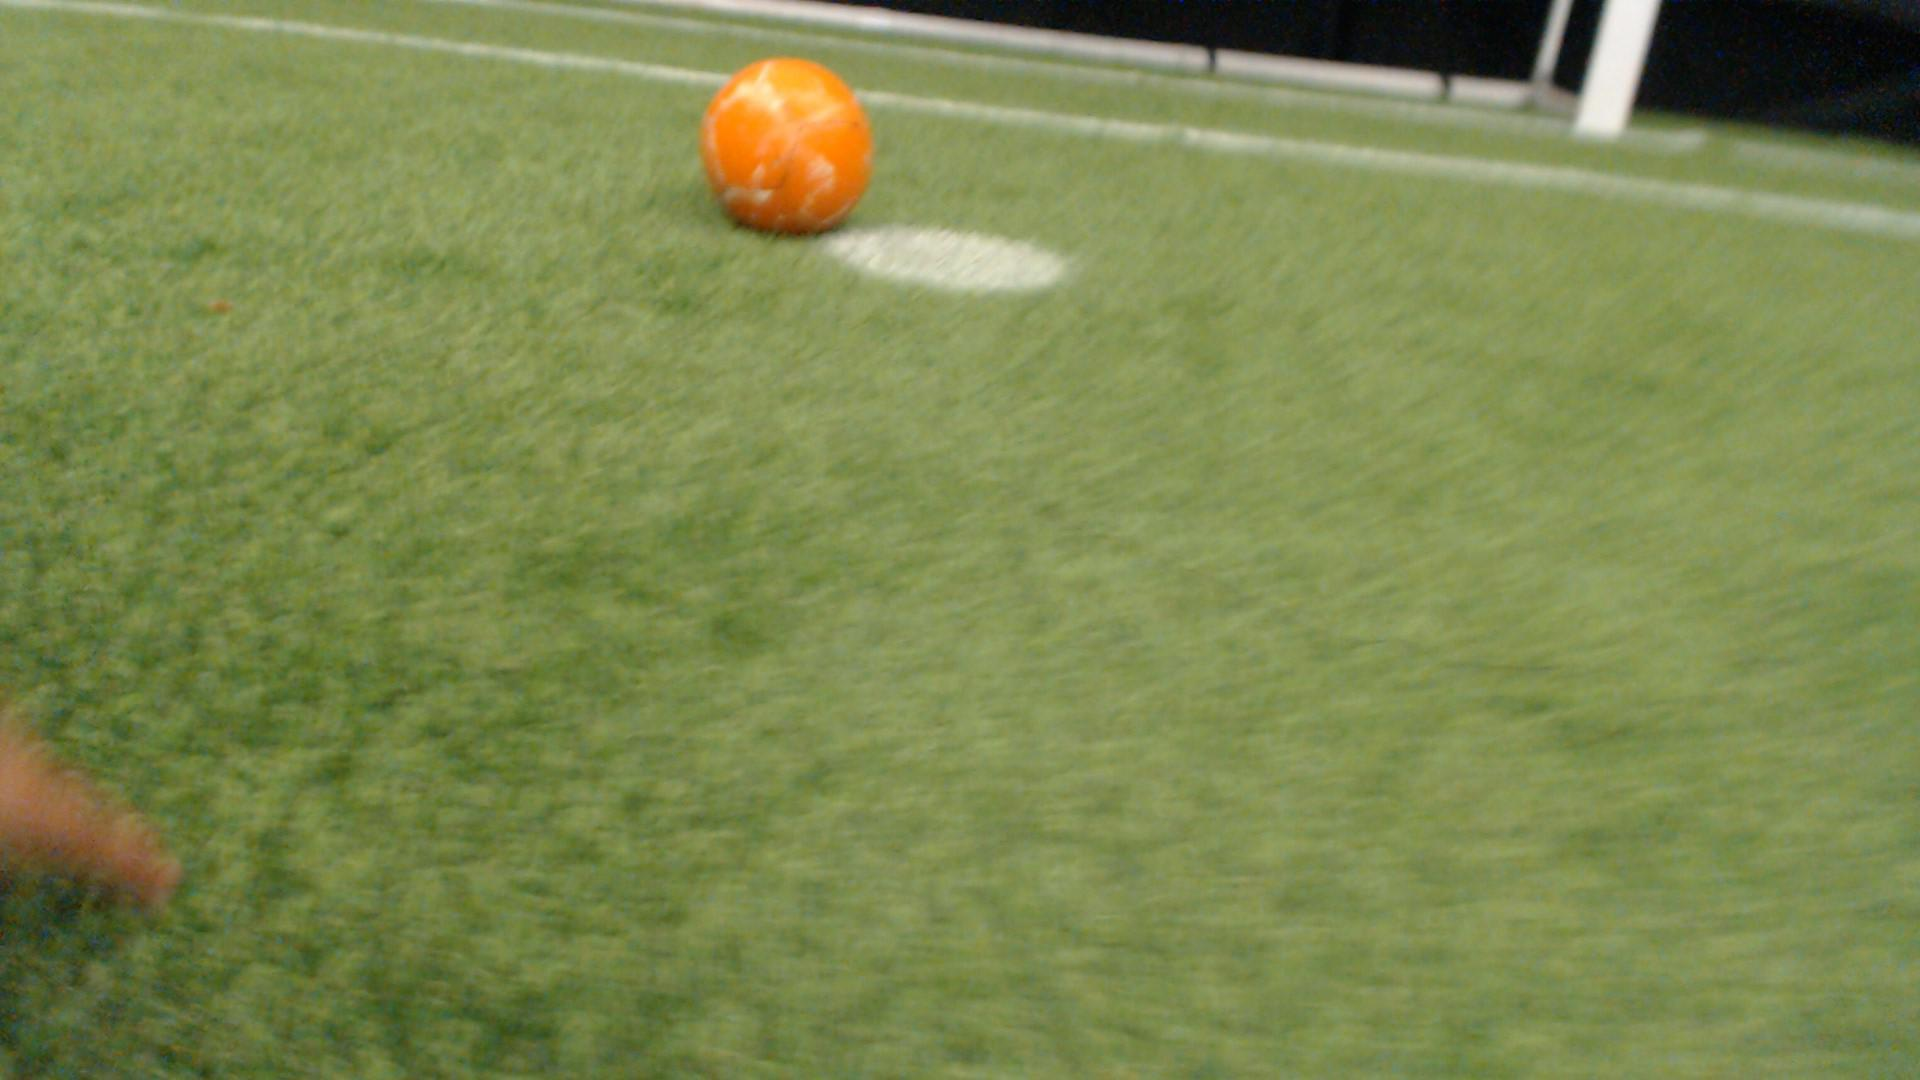bola: (695, 49, 882, 247)
